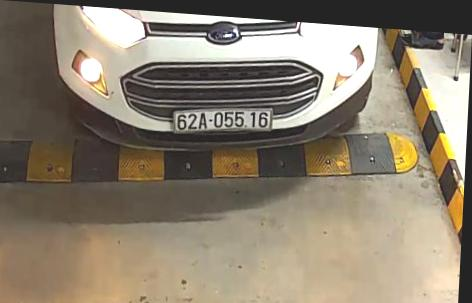License_Plate: (163, 100, 276, 139)
